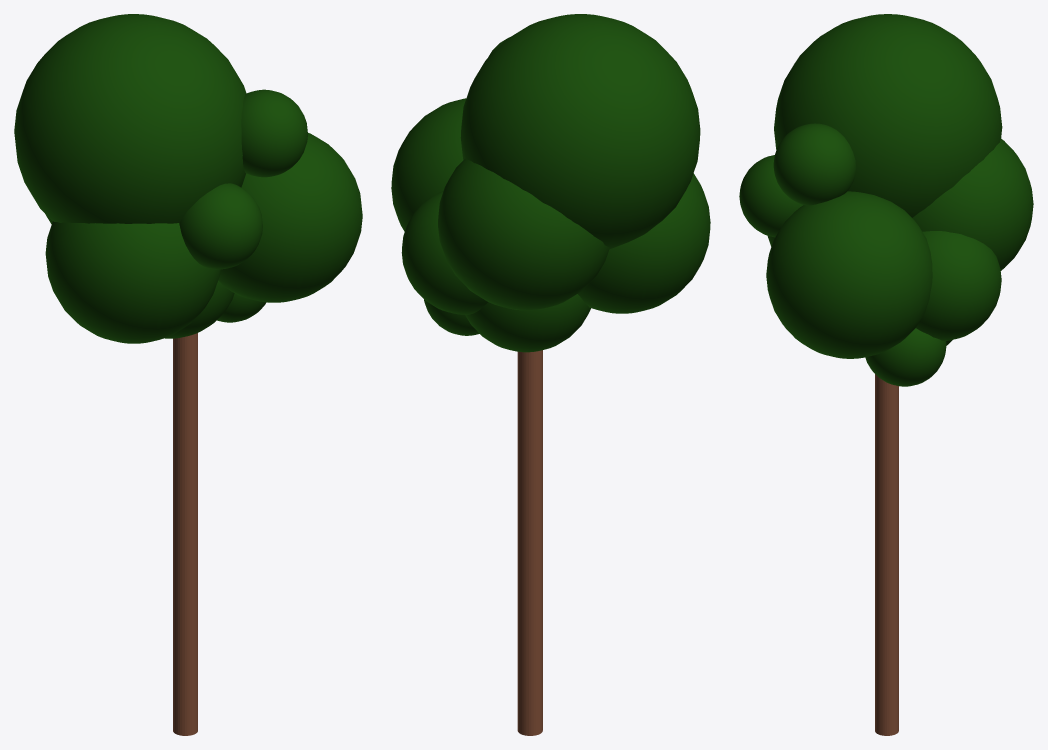
The model's file is tree.glb.
3 renders of one model, left to right at view 1: azimuth 30°, elevation 25°; view 2: azimuth 150°, elevation 25°; view 3: azimuth 270°, elevation 25°, orthographic. The views are drawn at different scales.
Parts seen in each view (by area): view 1: Sphere.016, Sphere.019, Sphere.013, Cylinder.004, Sphere.012, Sphere.015, Sphere.020, Sphere.014; view 2: Sphere.016, Sphere.018, Cylinder.004, Sphere.019, Sphere.013, Sphere.017, Sphere.020, Sphere.014; view 3: Sphere.016, Sphere.013, Cylinder.004, Sphere.018, Sphere.017, Sphere.015, Sphere.014, Sphere.012.
Boxes of the visible parts, x1,y1,x2,y2 form: Sphere.016: [14, 14, 246, 223]; Sphere.019: [45, 221, 220, 343]; Sphere.013: [218, 133, 362, 302]; Cylinder.004: [173, 333, 197, 735]; Sphere.012: [179, 183, 262, 269]; Sphere.015: [241, 89, 307, 177]; Sphere.020: [165, 280, 234, 338]; Sphere.014: [217, 293, 266, 322]; Sphere.016: [460, 14, 700, 249]; Sphere.018: [438, 159, 609, 310]; Cylinder.004: [517, 350, 542, 735]; Sphere.019: [578, 173, 710, 313]; Sphere.013: [391, 98, 466, 231]; Sphere.017: [401, 191, 487, 314]; Sphere.020: [465, 294, 590, 352]; Sphere.014: [424, 299, 479, 335]; Sphere.016: [774, 14, 1002, 217]; Sphere.013: [766, 191, 932, 358]; Cylinder.004: [875, 374, 898, 735]; Sphere.018: [912, 138, 1033, 270]; Sphere.017: [916, 231, 1001, 340]; Sphere.015: [773, 123, 856, 205]; Sphere.014: [865, 328, 946, 386]; Sphere.012: [739, 155, 803, 237].
Size of the model in its own units: 0.1789 by 0.4075 by 0.1591.
